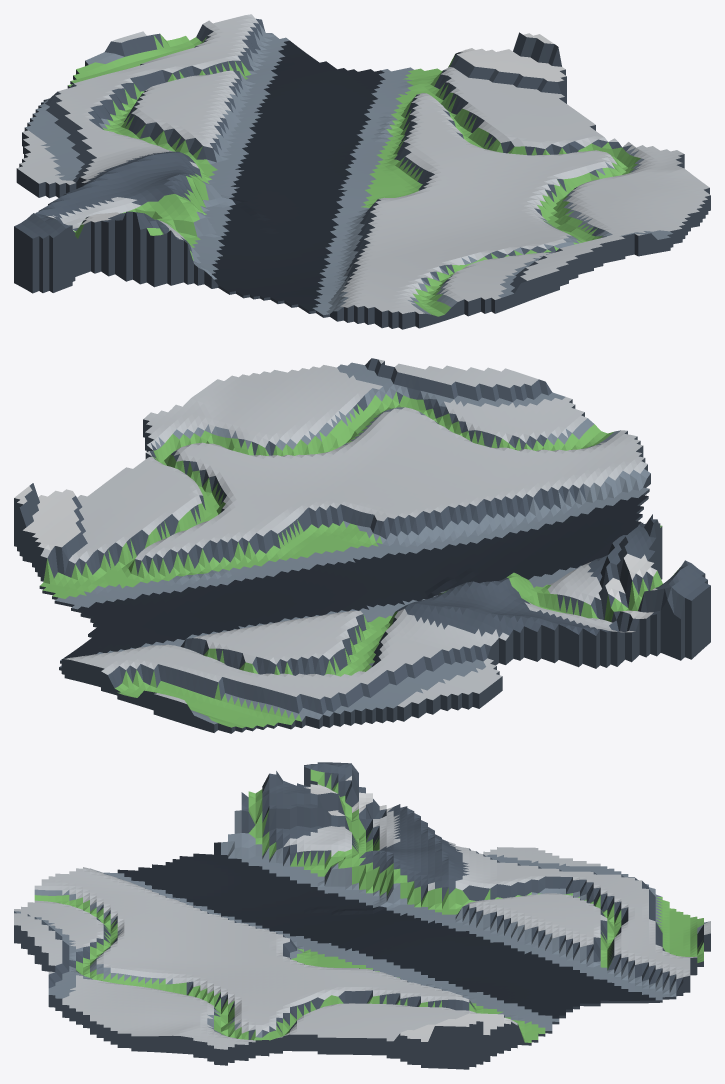
Rendered from chrome-arcology-transit-terrain-6425be.glb.
3 renders of one model, top to bottom at view 1: azimuth 30°, elevation 25°; view 2: azimuth 150°, elevation 25°; view 3: azimuth 270°, elevation 25°, orthographic. The views are drawn at different scales.
Parts seen in each view (by area): view 1: platform; view 2: platform; view 3: platform.
Part boxes in pixels (x1,y1,x2,y2): platform: (14,14,710,329); platform: (14,358,710,733); platform: (14,762,710,1069).
Bounding box in the file's own units: 92 × 12.42 × 101.
